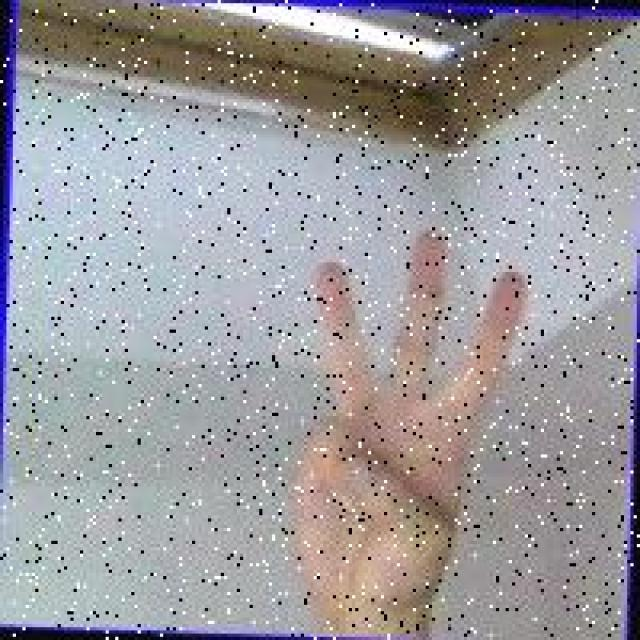W: (272, 224, 534, 634)
